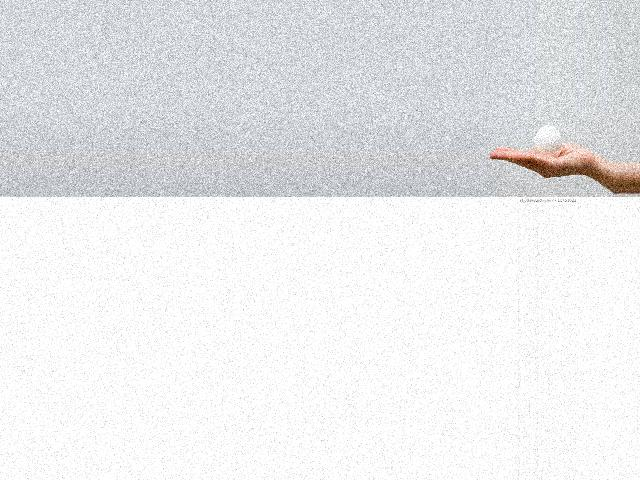egg: (534, 125, 560, 158)
